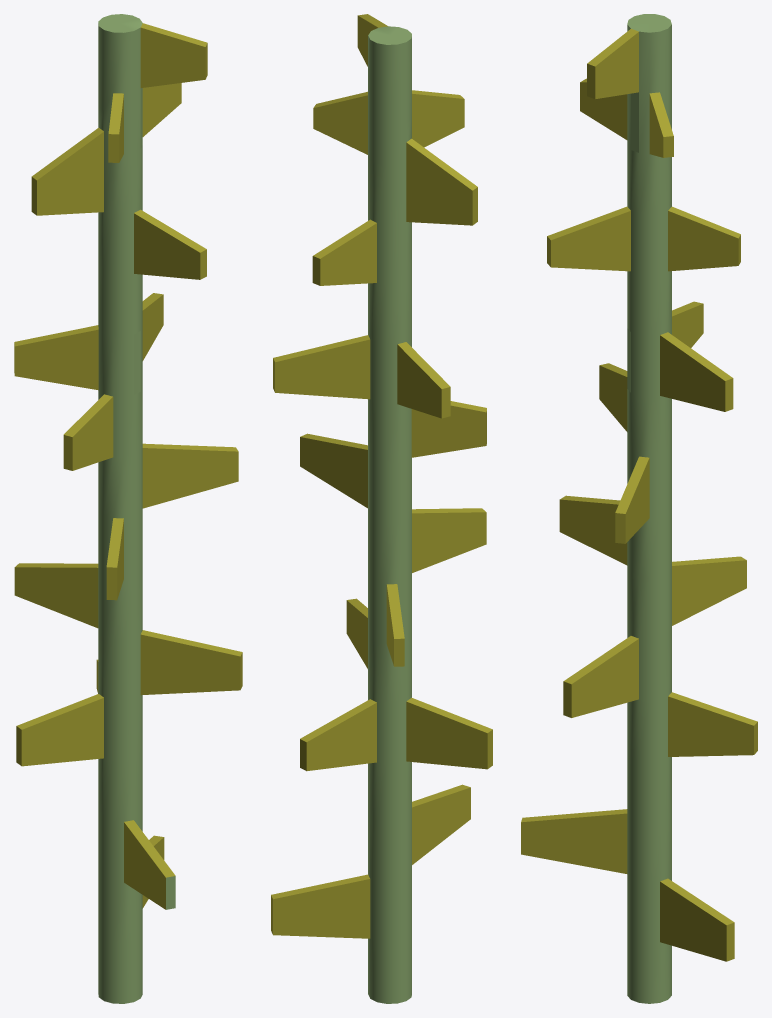
File: CornStalk.fbx
3 views of the same model, side by side, from view 1: azimuth 30°, elevation 25°; view 2: azimuth 150°, elevation 25°; view 3: azimuth 270°, elevation 25° (orthographic).
Parts seen in each view (by area): view 1: pCylinder1; view 2: pCylinder1; view 3: pCylinder1.
Part boxes in pixels (left/top/right/bottom): pCylinder1: left=14, top=14, right=242, bottom=1003; pCylinder1: left=271, top=14, right=492, bottom=1003; pCylinder1: left=521, top=14, right=757, bottom=1003.
Bounding box in the file's own units: 1.25 × 5.65 × 1.25.
